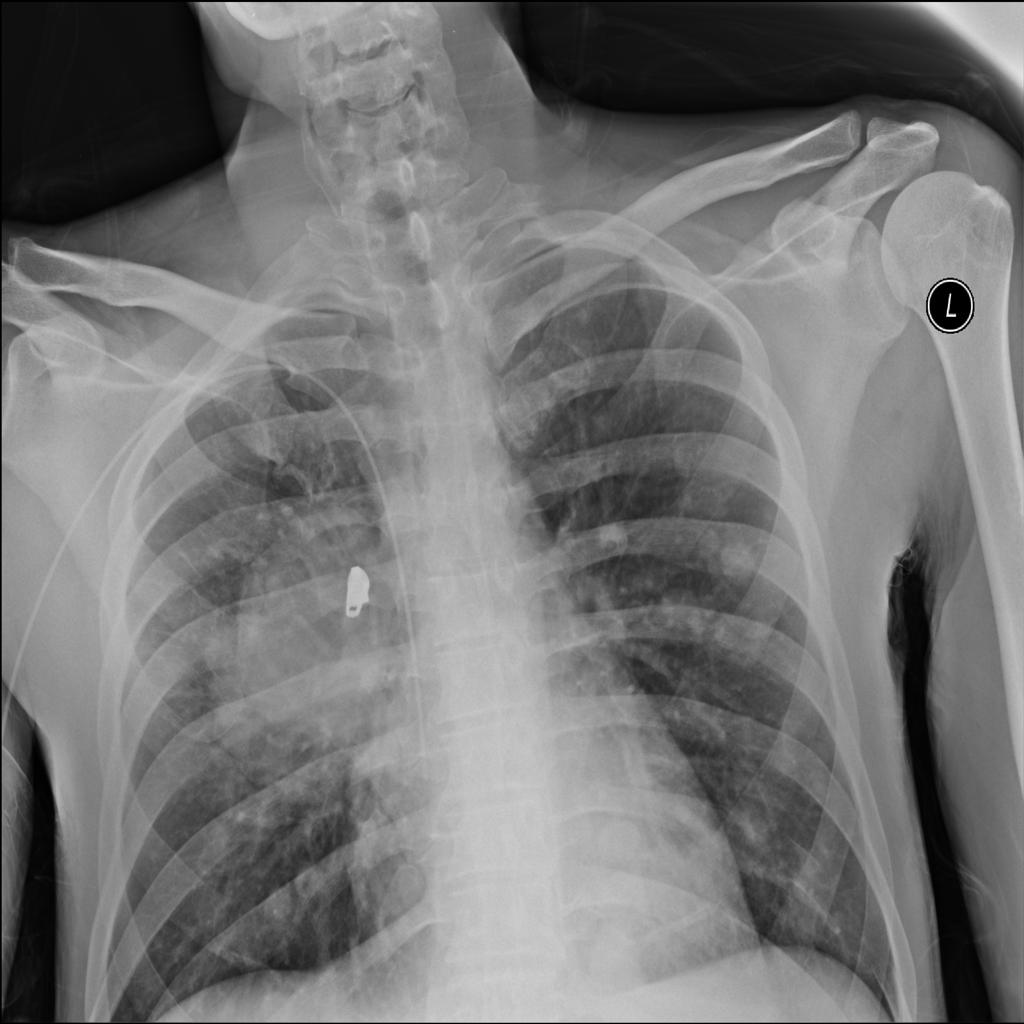nodule: (198, 498, 422, 787), (565, 861, 697, 988), (646, 573, 719, 650), (707, 517, 774, 595), (582, 804, 657, 873), (245, 866, 309, 945)
